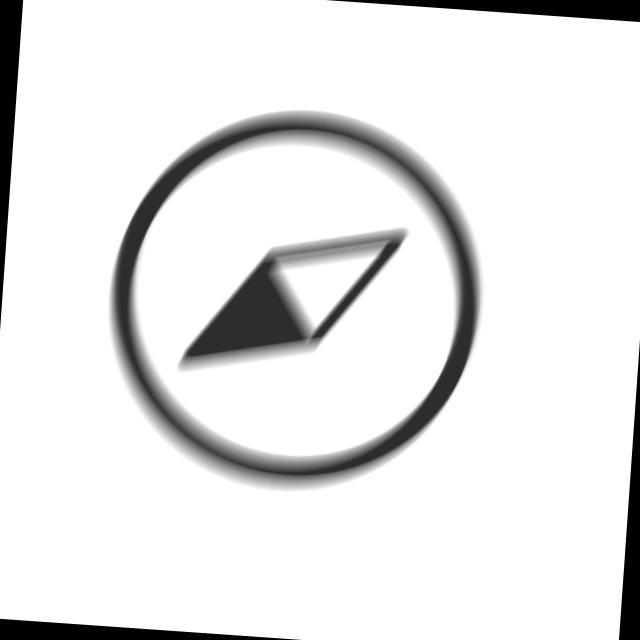compass: (89, 91, 497, 509)
